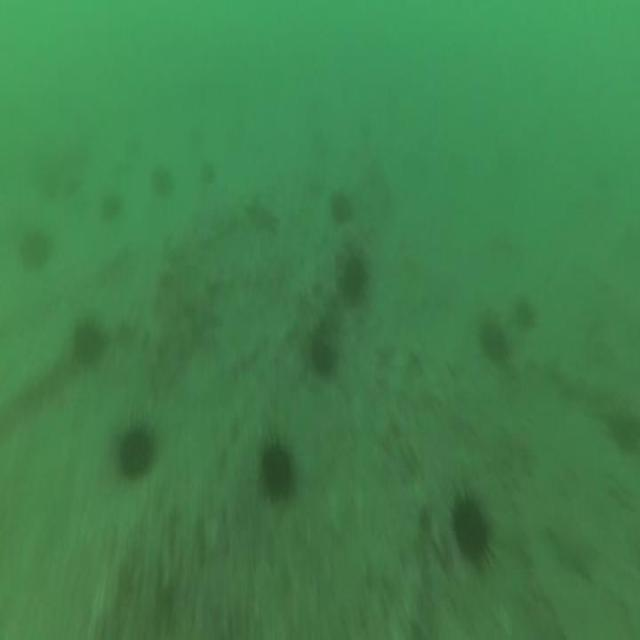echinus: (455, 500, 488, 564), (261, 446, 295, 502), (121, 425, 153, 479), (73, 324, 103, 368), (480, 320, 508, 364), (341, 262, 367, 305), (514, 294, 538, 333), (311, 338, 334, 375), (331, 191, 353, 226)
starfish: (547, 515, 600, 577), (245, 200, 281, 238)
